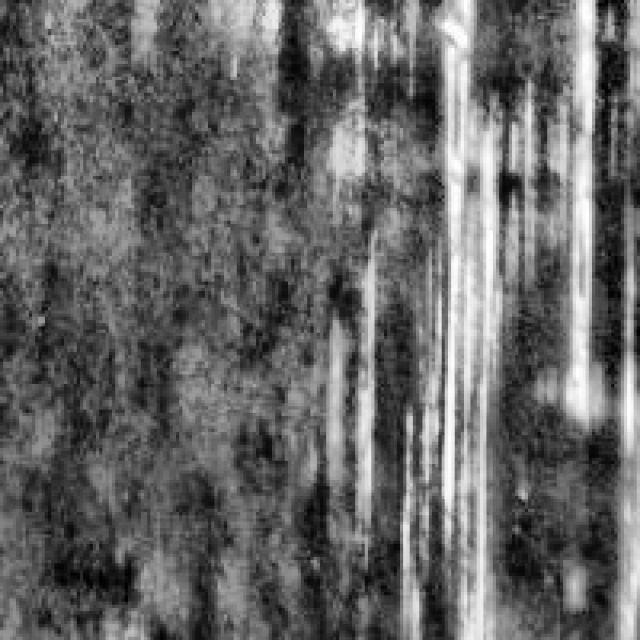Inclusion: (403, 0, 502, 579), (534, 0, 605, 426)
